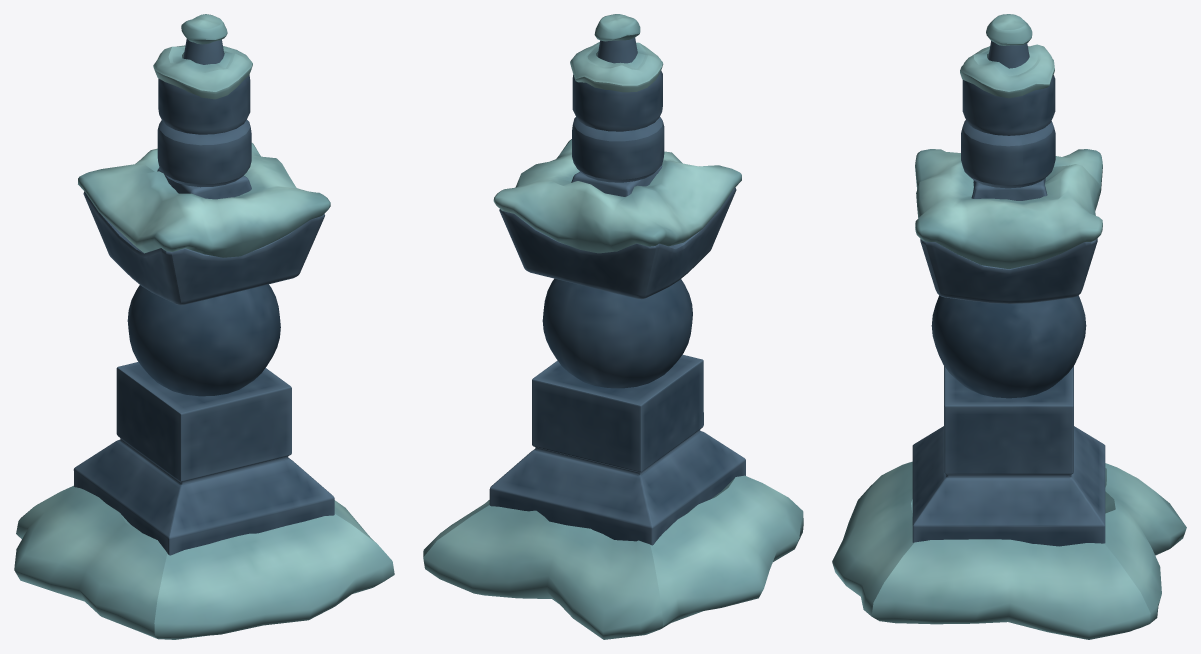
The model's file is SM_Tomb1_V2.fbx.
3 views of the same model, side by side, from view 1: azimuth 30°, elevation 25°; view 2: azimuth 150°, elevation 25°; view 3: azimuth 270°, elevation 25° (orthographic). The views are drawn at different scales.
Visible parts, largest first — view 1: SM_Snow3, SM_Tomb2, SM_Snow1, SM_Tomb4, SM_Tomb5, SM_Tomb3, SM_Tomb1, SM_Snow2; view 2: SM_Snow3, SM_Tomb2, SM_Snow1, SM_Tomb4, SM_Tomb5, SM_Tomb3, SM_Tomb1, SM_Snow2; view 3: SM_Snow3, SM_Tomb2, SM_Snow1, SM_Tomb4, SM_Tomb5, SM_Tomb3, SM_Tomb1, SM_Snow2.
Part boxes in pixels (x1=…): SM_Snow3: x1=14, y1=485, x2=394, y2=639; SM_Tomb2: x1=73, y1=362, x2=334, y2=555; SM_Snow1: x1=78, y1=143, x2=330, y2=257; SM_Tomb4: x1=127, y1=284, x2=280, y2=396; SM_Tomb5: x1=83, y1=167, x2=324, y2=305; SM_Tomb3: x1=157, y1=119, x2=251, y2=187; SM_Tomb1: x1=158, y1=38, x2=250, y2=134; SM_Snow2: x1=153, y1=14, x2=252, y2=99; SM_Snow3: x1=423, y1=475, x2=803, y2=639; SM_Tomb2: x1=489, y1=354, x2=745, y2=545; SM_Snow1: x1=493, y1=139, x2=741, y2=253; SM_Tomb4: x1=542, y1=278, x2=692, y2=388; SM_Tomb5: x1=499, y1=165, x2=736, y2=299; SM_Tomb3: x1=572, y1=117, x2=664, y2=182; SM_Tomb1: x1=572, y1=37, x2=662, y2=131; SM_Snow2: x1=570, y1=14, x2=663, y2=92; SM_Snow3: x1=832, y1=461, x2=1186, y2=639; SM_Tomb2: x1=912, y1=366, x2=1105, y2=546; SM_Snow1: x1=915, y1=149, x2=1102, y2=269; SM_Tomb4: x1=931, y1=295, x2=1086, y2=398; SM_Tomb5: x1=920, y1=178, x2=1097, y2=303; SM_Tomb3: x1=961, y1=120, x2=1055, y2=188; SM_Tomb1: x1=962, y1=41, x2=1055, y2=135; SM_Snow2: x1=960, y1=14, x2=1054, y2=98.
Size of the model in its own units: 1.4 by 2.38 by 1.37.
